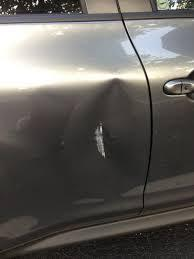dent: (94, 71, 139, 175)
scratch: (85, 104, 115, 163)
